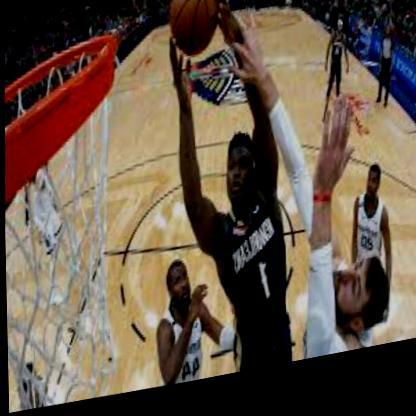basketball: (167, 0, 219, 69)
rim: (2, 31, 121, 211)
